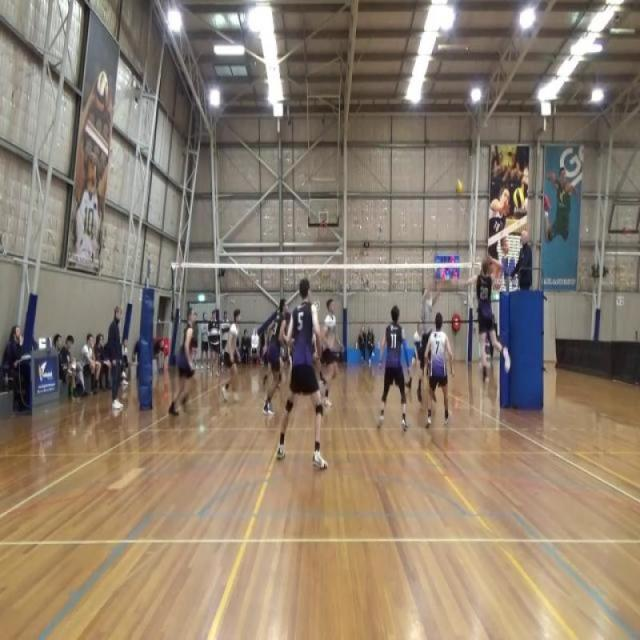volleyball: (95, 70, 107, 112), (454, 177, 466, 199), (512, 186, 524, 206)
